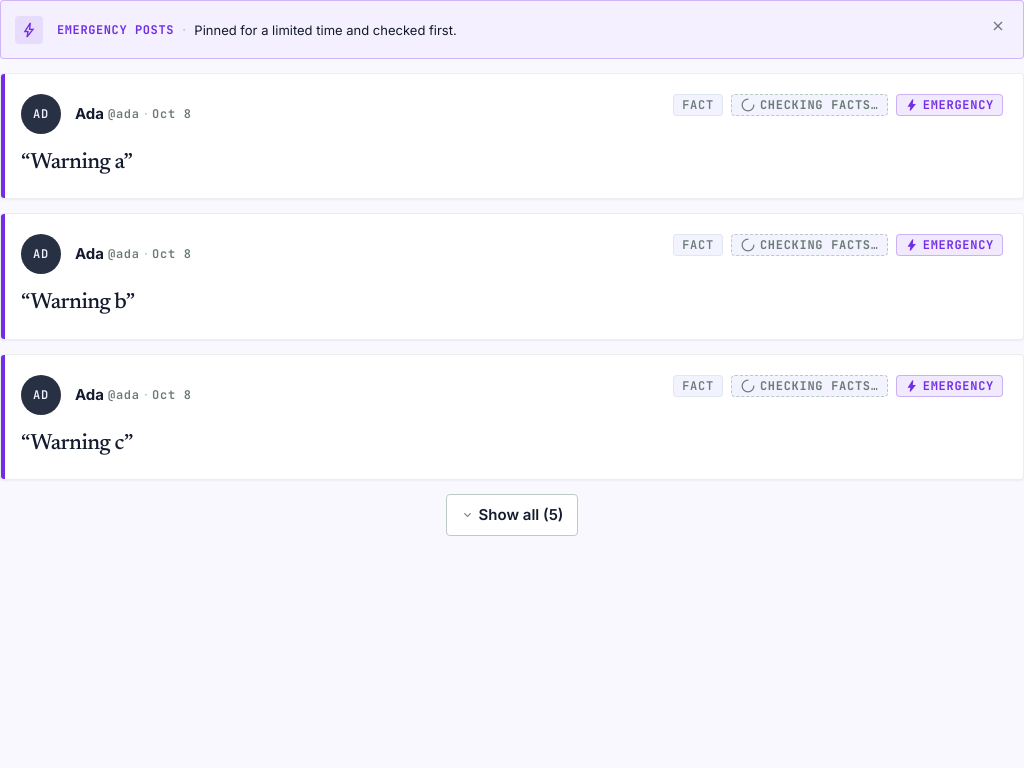
Scenario: PinnedEmergencies › offers Show all when more are pinned, and lists them in place
The image size is (1024, 768).
Click the button "Show all (5)": (512, 515) [446, 494, 578, 536]
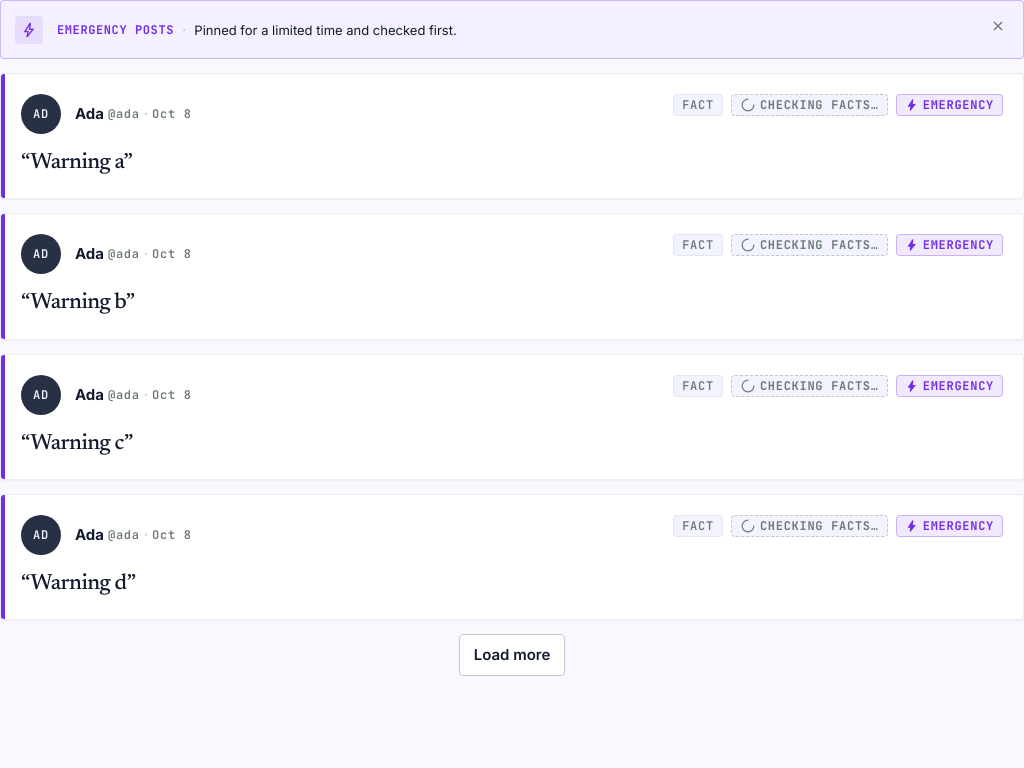
Expected: the button "Show all" is gone
Click the button "Load more": (512, 655) [459, 634, 565, 676]
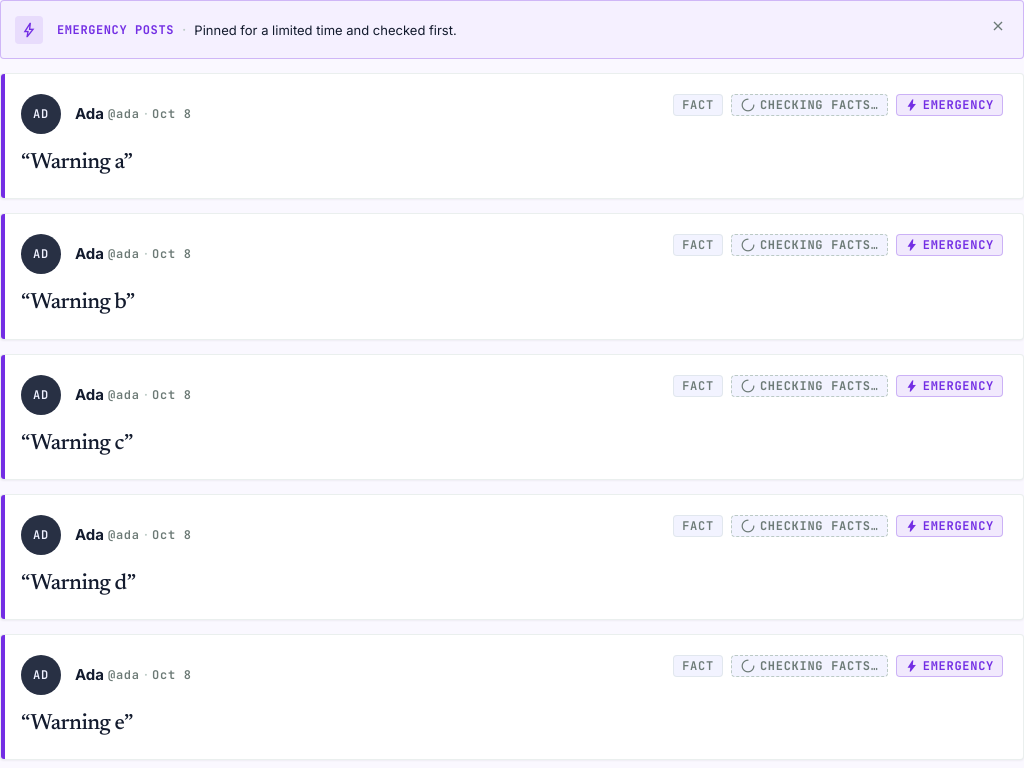
Expected: the button "Load more" is gone
